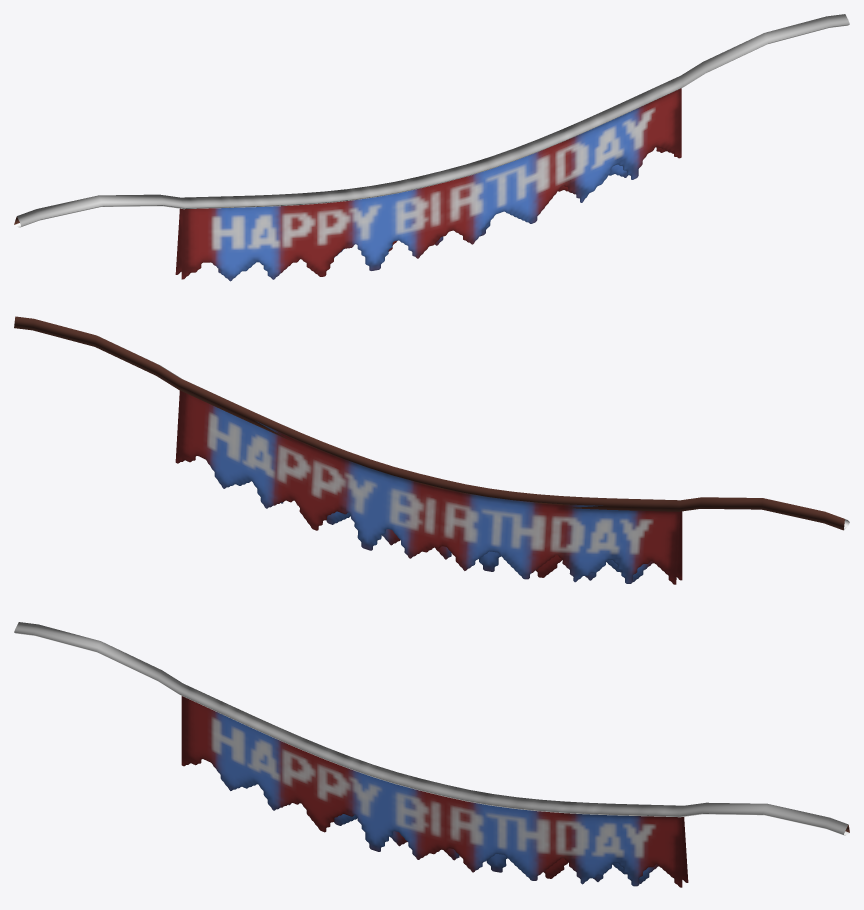
Rendered from birthday.obj.
3 views of the same model, one above another, from view 1: azimuth 30°, elevation 25°; view 2: azimuth 150°, elevation 25°; view 3: azimuth 330°, elevation 25° (orthographic).
Parts seen in each view (by area): view 1: birthday; view 2: birthday; view 3: birthday.
Boxes of the visible parts, box(x1,y1,x2,y2) form: birthday: box(14, 14, 849, 281); birthday: box(14, 316, 849, 584); birthday: box(14, 622, 849, 887).
Size of the model in its own units: 18.91 by 3.27 by 0.4882.
